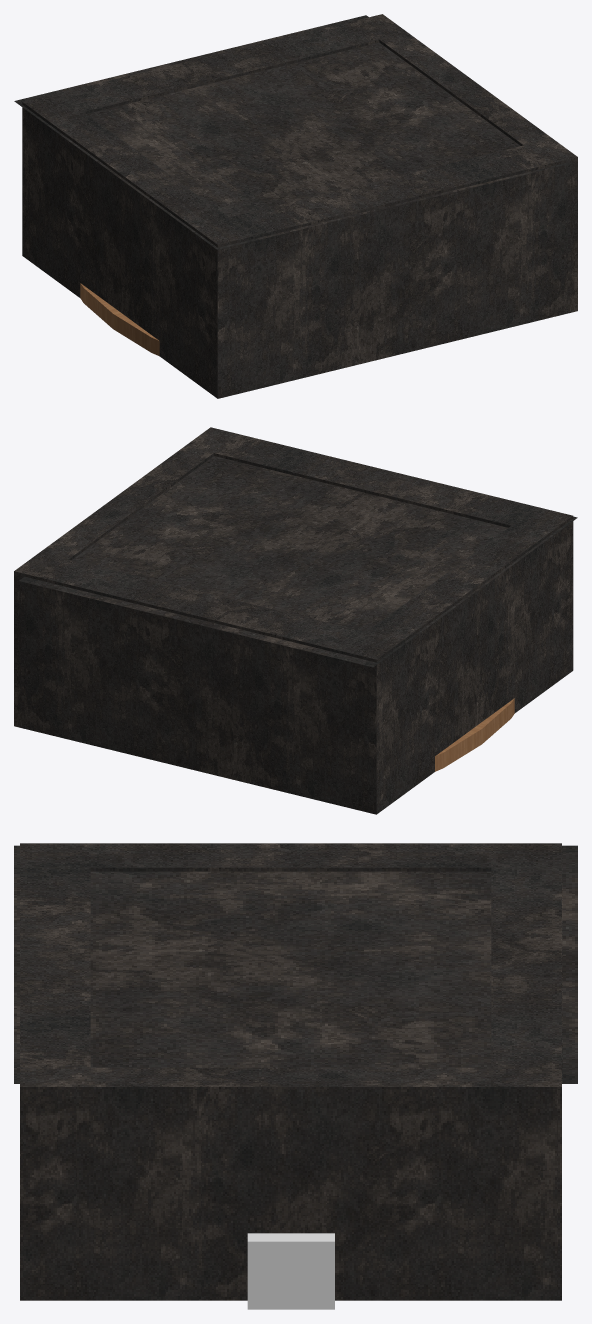
Rendered from AuditoriumFinished.glb.
3 views of the same model, one above another, from view 1: azimuth 30°, elevation 25°; view 2: azimuth 150°, elevation 25°; view 3: azimuth 270°, elevation 25° (orthographic). The views are drawn at different scales.
Visible parts, largest first — view 1: Walls, roof, Stage; view 2: Walls, roof, Stage; view 3: Walls, roof, Cube.002.
Part boxes in pixels (x1,y1,x2,y2): Walls: (22,14,577,398); roof: (14,15,568,249); Stage: (80,283,159,356); Walls: (14,427,573,814); roof: (19,456,577,667); Stage: (435,698,514,771); Walls: (20,843,561,1300); roof: (14,845,577,1083); Cube.002: (247,1233,334,1309).
Bounding box in the file's own units: 25.81 × 10.04 × 23.93.
Materials: 7 (4 with a texture image).
